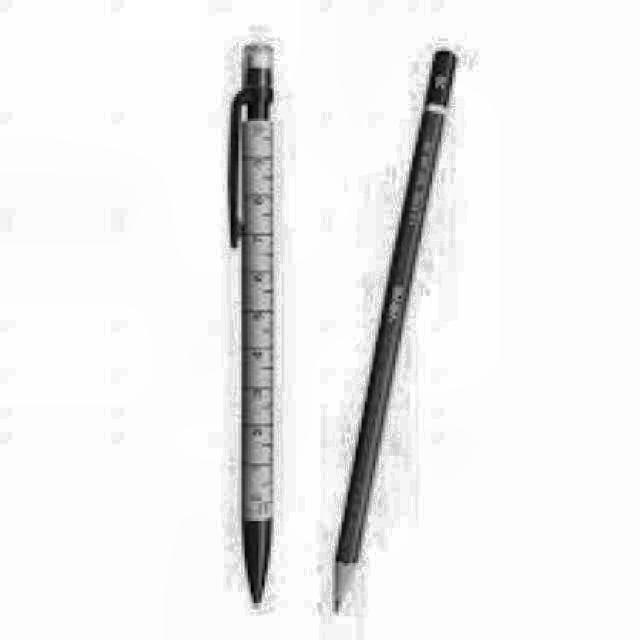Pen: (231, 43, 276, 616)
